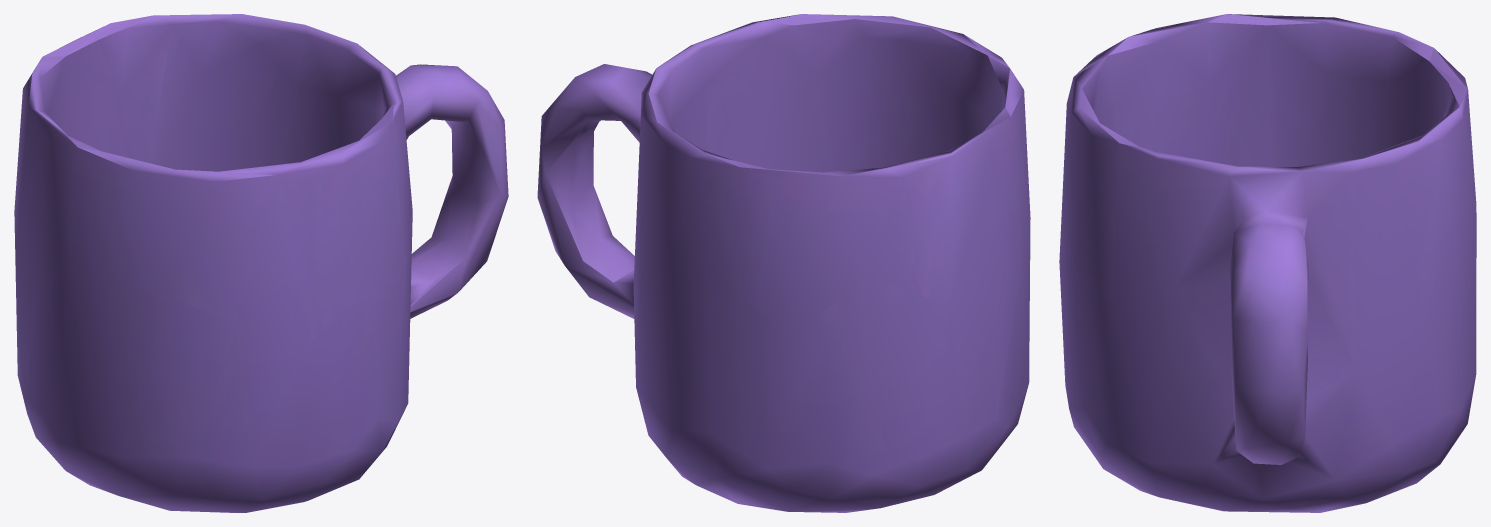
The model's file is mug.glb.
3 renders of one model, left to right at view 1: azimuth 30°, elevation 25°; view 2: azimuth 150°, elevation 25°; view 3: azimuth 270°, elevation 25°, orthographic.
Visible parts, largest first — view 1: mug; view 2: mug; view 3: mug.
Part boxes in pixels (<box>): mug: <box>14,14,508,512</box>; mug: <box>537,14,1030,512</box>; mug: <box>1059,14,1476,512</box>.
Bounding box in the file's own units: 0.134 × 0.0997 × 0.1037.
1 material, 1 textured.
